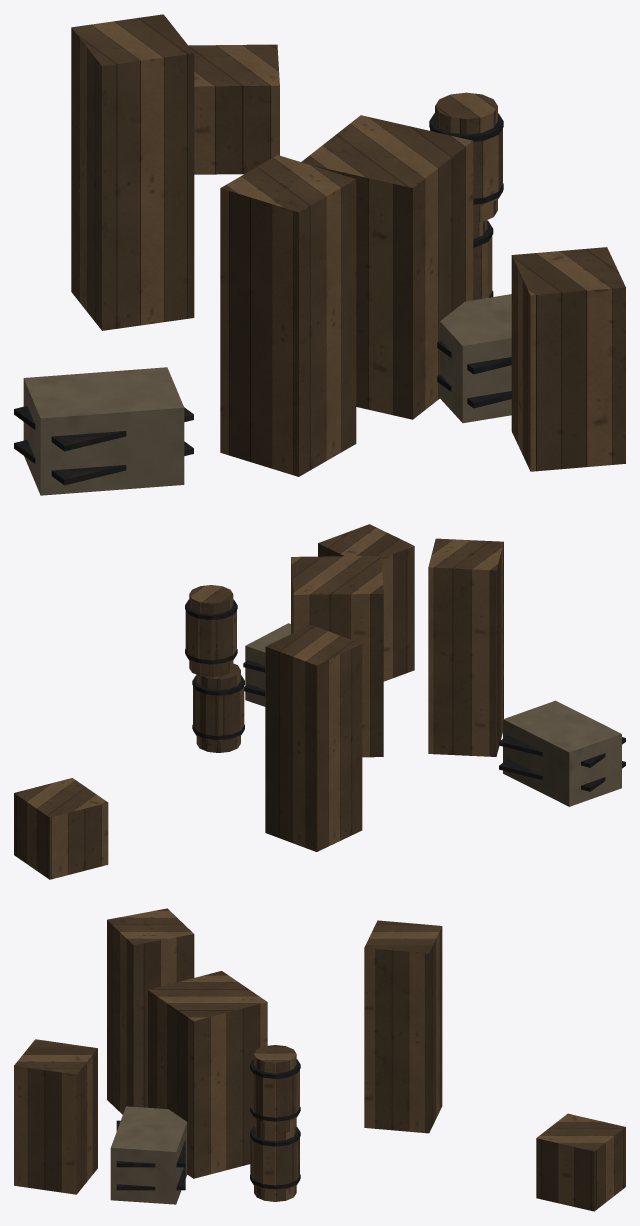
The model's file is B_cargo.glb.
3 renders of one model, top to bottom at view 1: azimuth 30°, elevation 25°; view 2: azimuth 150°, elevation 25°; view 3: azimuth 270°, elevation 25°, orthographic. The views are drawn at different scales.
Parts seen in each view (by area): view 1: B_cargo; view 2: B_cargo; view 3: B_cargo.
Boxes of the visible parts, x1=… form: B_cargo: x1=14, y1=14, x2=625, y2=495; B_cargo: x1=14, y1=524, x2=625, y2=879; B_cargo: x1=14, y1=908, x2=625, y2=1211.
Size of the model in its own units: 5.22 by 2.4 by 7.39.
Materials: 3 (3 with a texture image).
